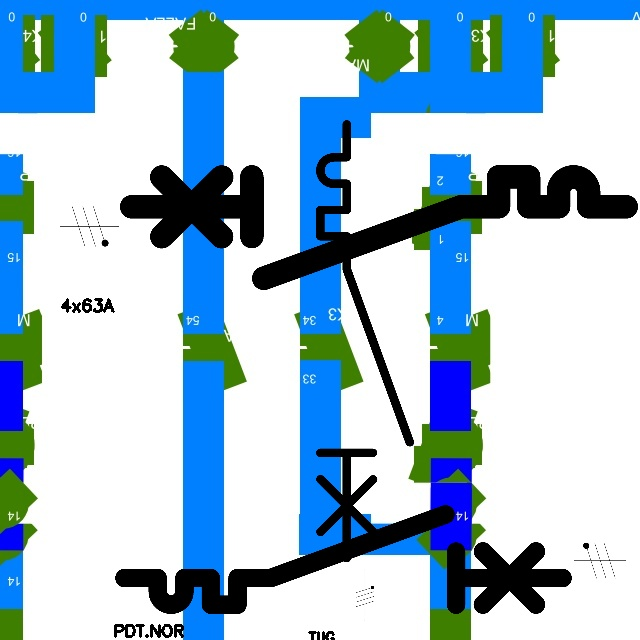interruptor_termomagnetico: (118, 164, 638, 291), (113, 503, 574, 616), (309, 113, 420, 569)
